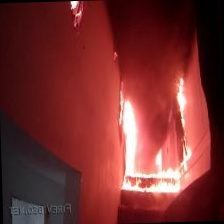fire: (114, 74, 189, 197)
